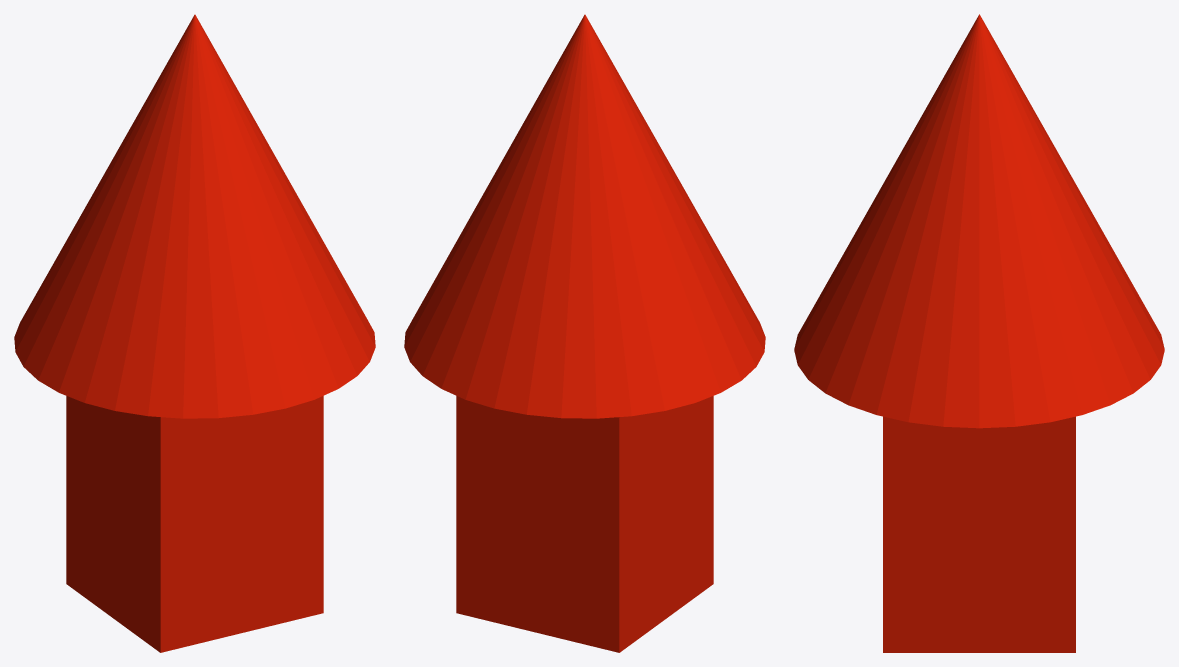
The model's file is Arrow.dae.
3 views of the same model, side by side, from view 1: azimuth 30°, elevation 25°; view 2: azimuth 150°, elevation 25°; view 3: azimuth 270°, elevation 25° (orthographic). The views are drawn at different scales.
Parts seen in each view (by area): view 1: Arrow; view 2: Arrow; view 3: Arrow.
Part boxes in pixels (x1,y1,x2,y2): Arrow: (14, 14, 375, 652); Arrow: (404, 14, 765, 652); Arrow: (794, 14, 1164, 652).
Size of the model in its own units: 3.84 by 3.84 by 6.84.
